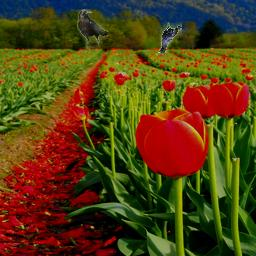Crow: (77, 9, 108, 49), (158, 22, 182, 53)
